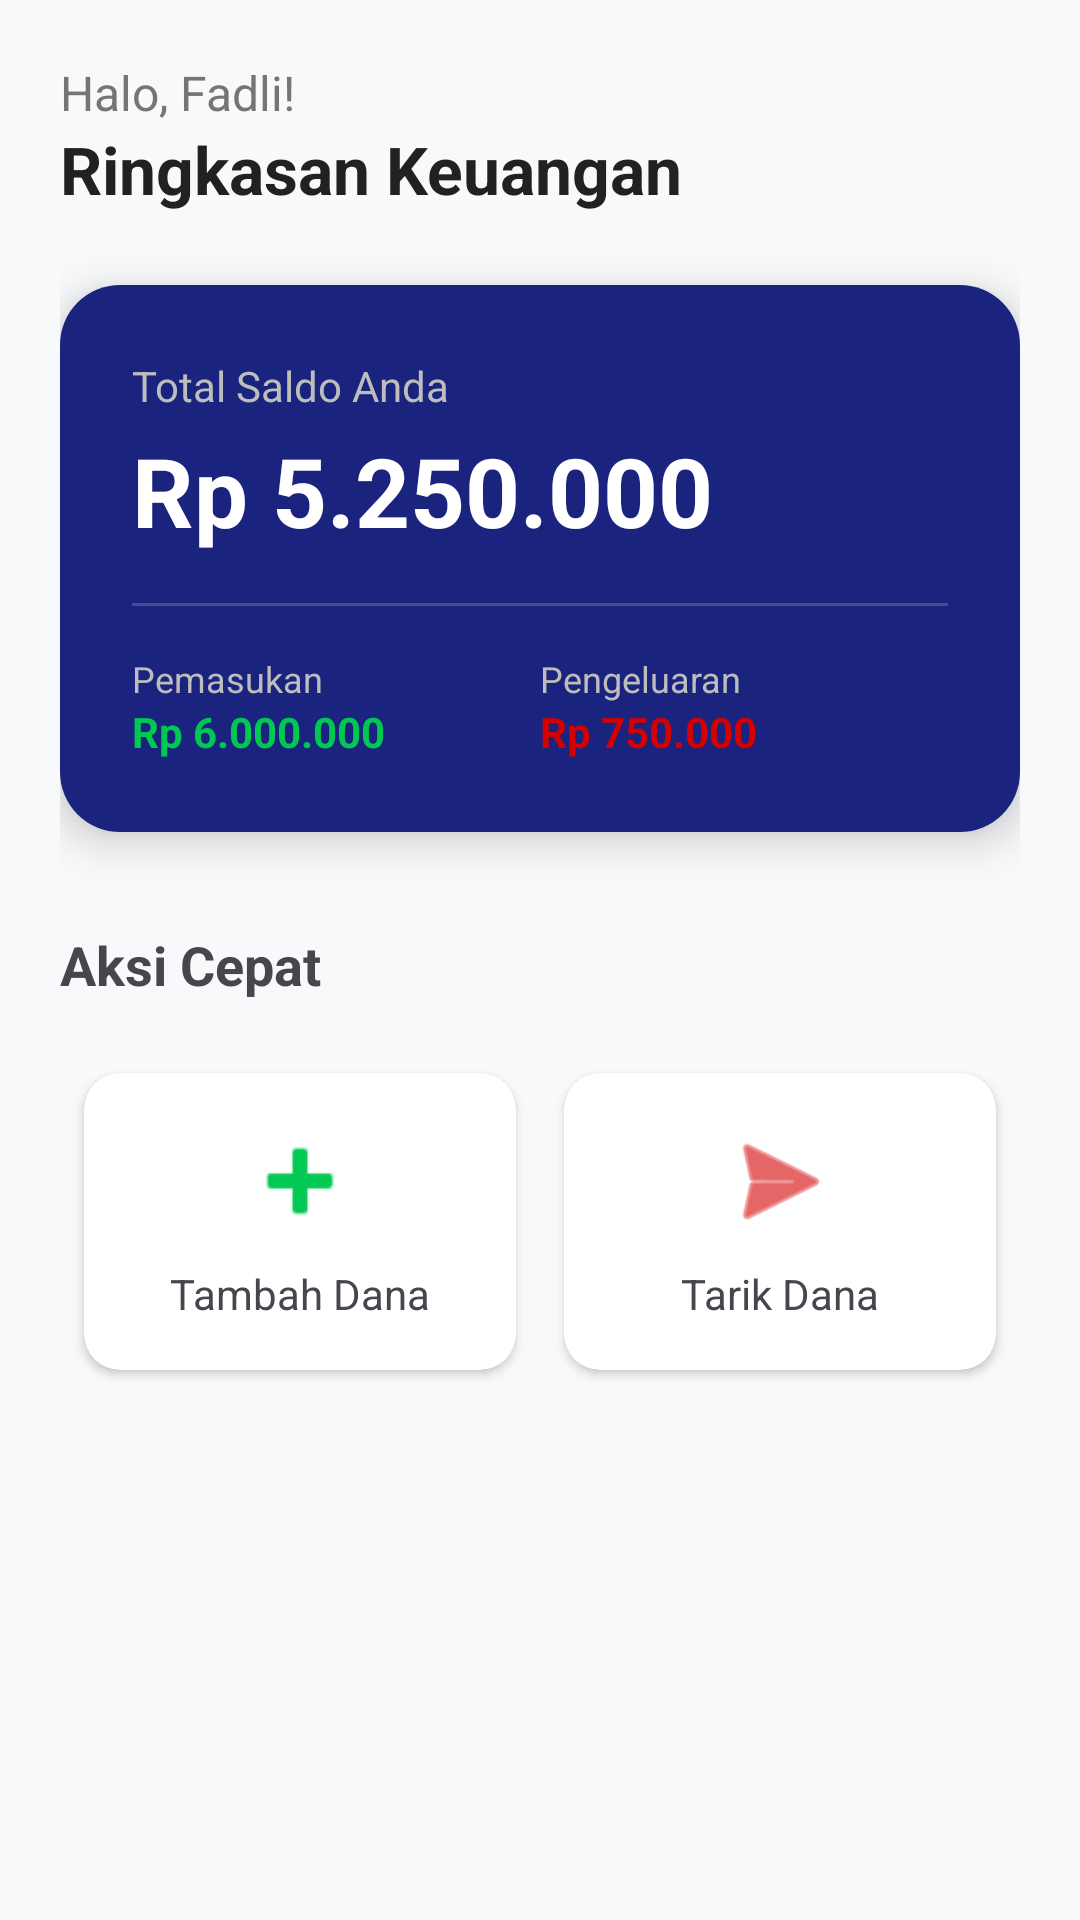

Named icons in this screenshot (1080px×1920px) and their bounding boxes, region(x1, y1, x2, y2):
add: region(266, 1147, 334, 1215)
send: region(742, 1144, 820, 1220)
